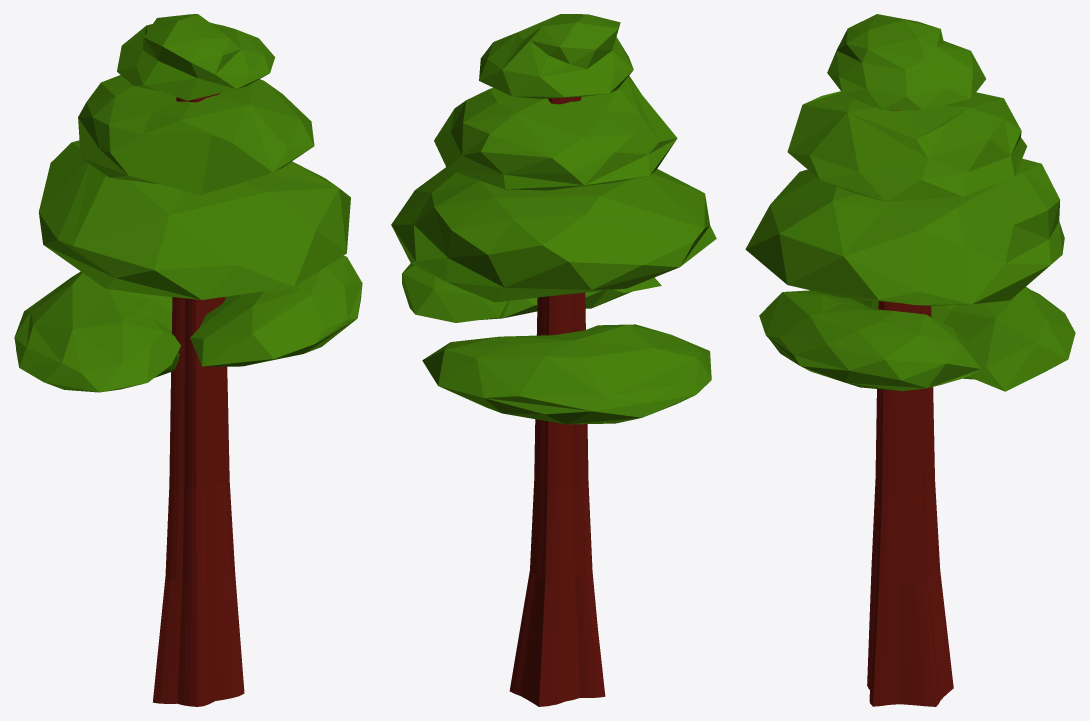
File: sequoia.glb
The picture shows the model from 3 angles, left to right: view 1: azimuth 30°, elevation 25°; view 2: azimuth 150°, elevation 25°; view 3: azimuth 270°, elevation 25°; orthographic projection.
Parts seen in each view (by area): view 1: Icosphere.003; view 2: Icosphere.003; view 3: Icosphere.003.
Boxes of the visible parts, bbox=[...] form: Icosphere.003: bbox=[14, 14, 362, 706]; Icosphere.003: bbox=[391, 14, 716, 706]; Icosphere.003: bbox=[745, 14, 1075, 706].
Size of the model in its own units: 49.24 by 103 by 46.46.
